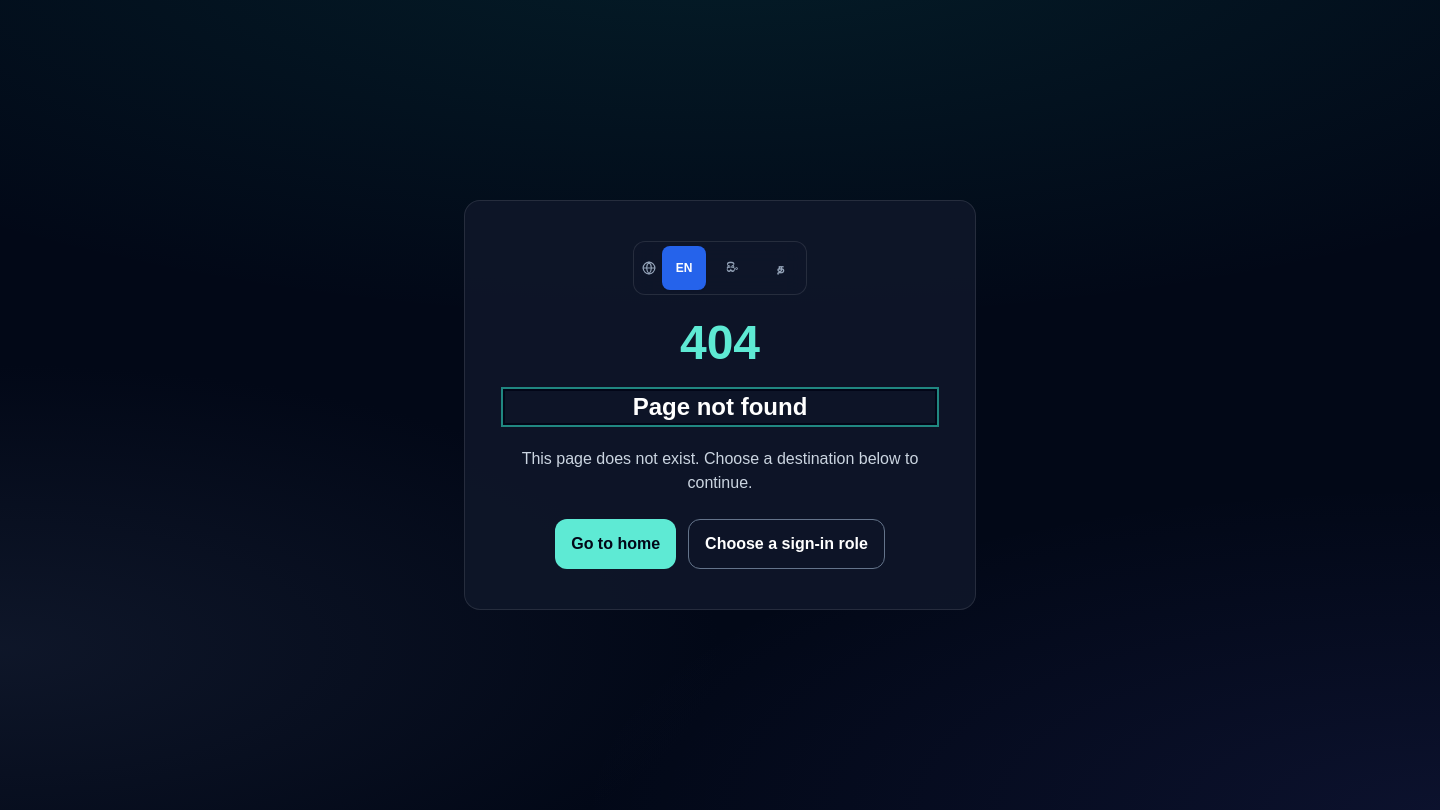
Scenario: 404 language selection updates actual text and persists without navigation or a request
The image size is (1440, 810).
Expected: the heading "Page not found" is shown, x1=505 y1=391 x2=935 y2=423
Click the button named "தமிழ்" at [780, 268], box x1=758 y1=246 x2=802 y2=290
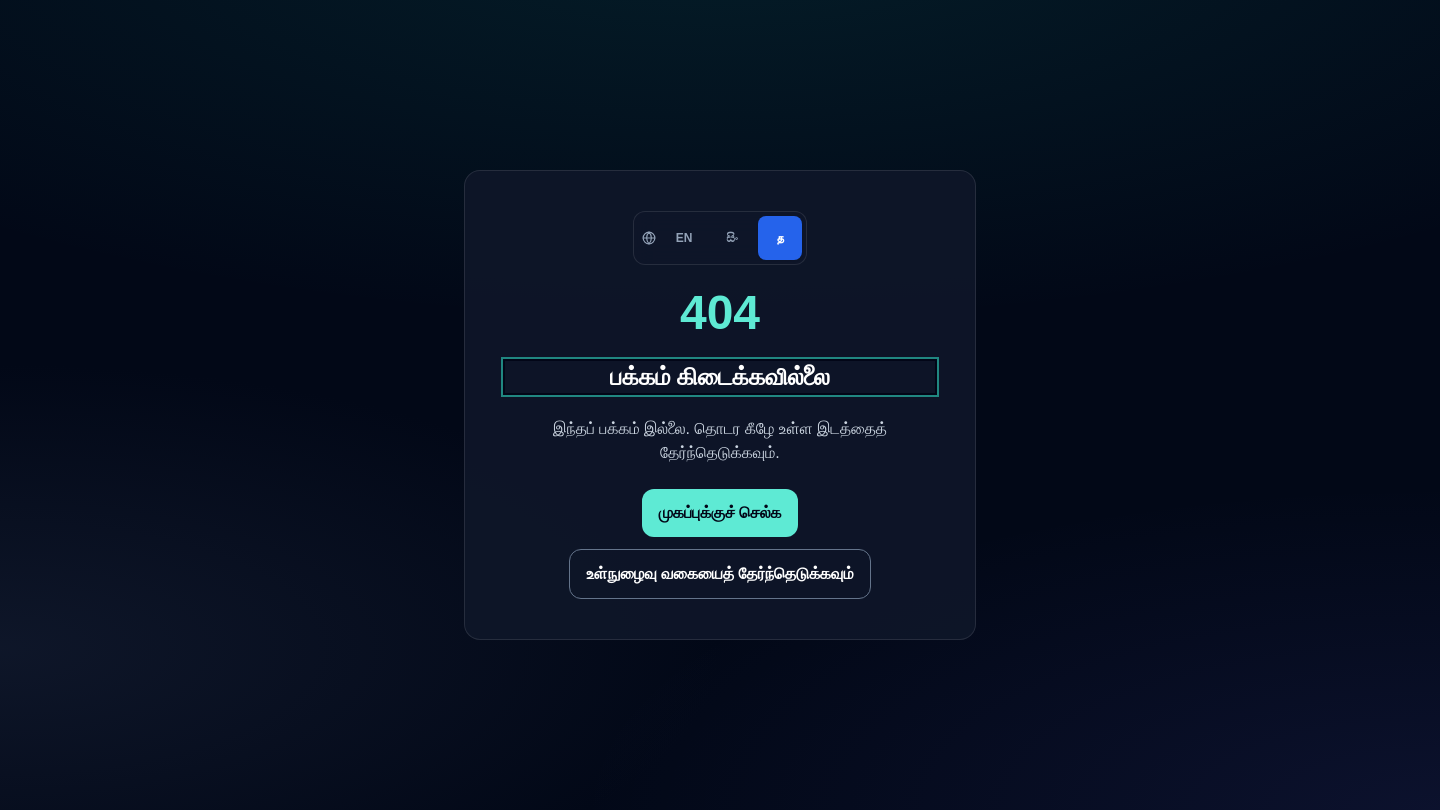
Expected: the heading "பக்கம் கிடைக்கவில்லை" is shown, x1=505 y1=361 x2=935 y2=393
